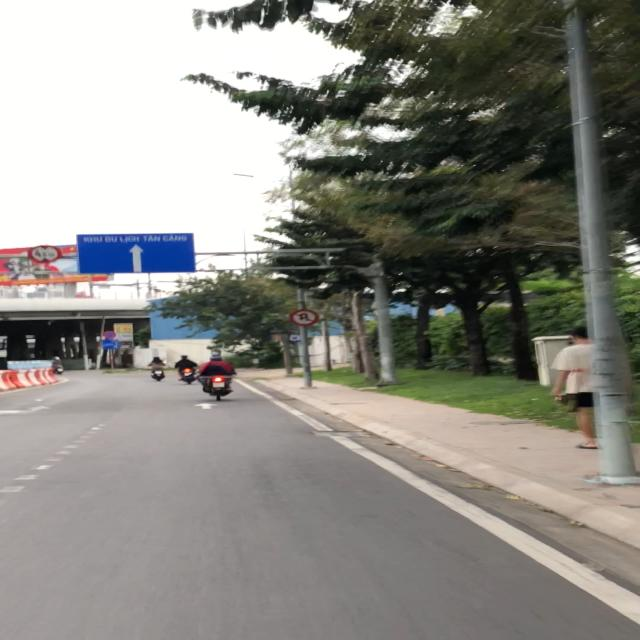Bien bao cam quay dau xe: (287, 308, 322, 326)
Bien bao han che chieu cao: (25, 245, 63, 263)
